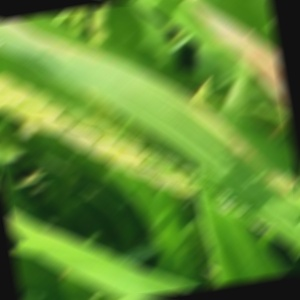Leaf_Blast: (168, 80, 286, 225)
